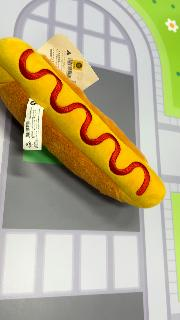hotdog: (2, 37, 166, 209)
